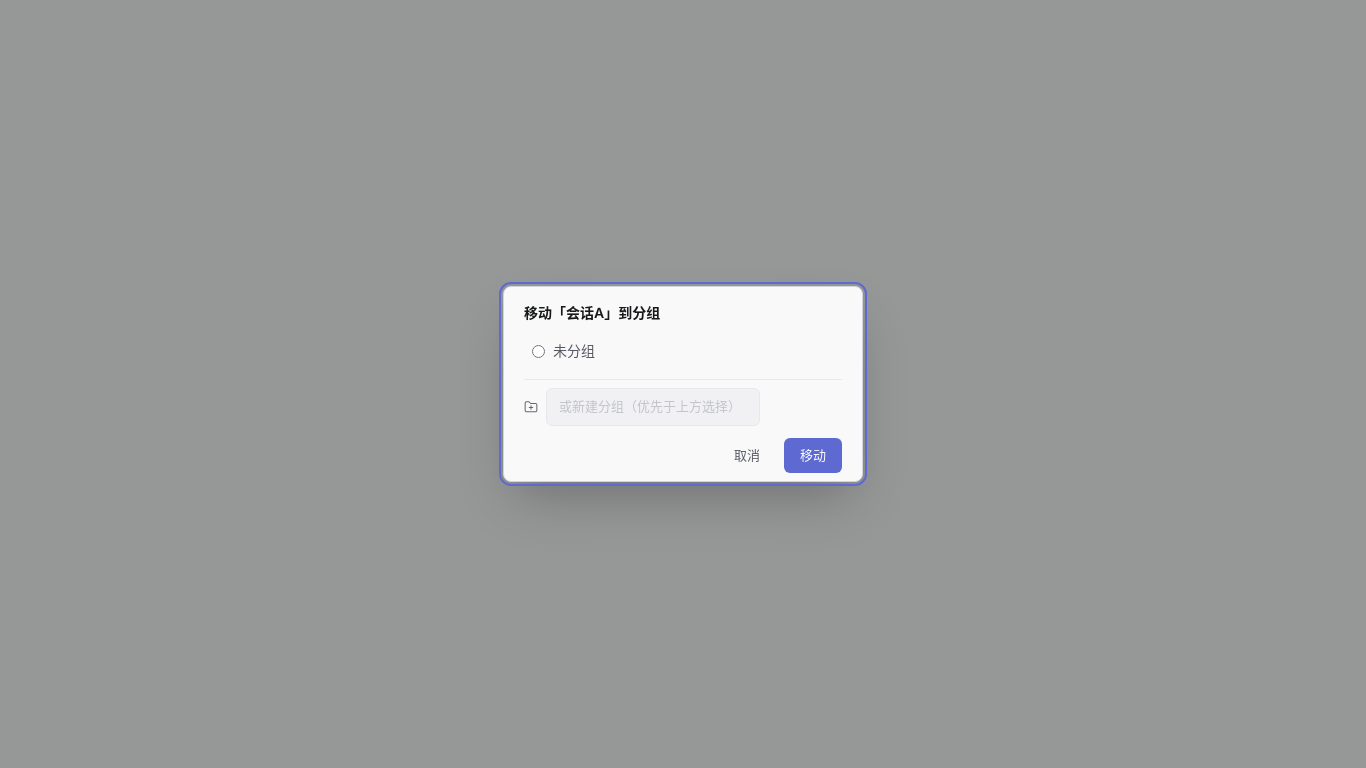
MoveToGroupDialog — 提交路径 › 输入新名后既有组 radio 取消选中（新名优先语义）
In the field: (653, 407) x1=546 y1=388 x2=760 y2=426, type "x"
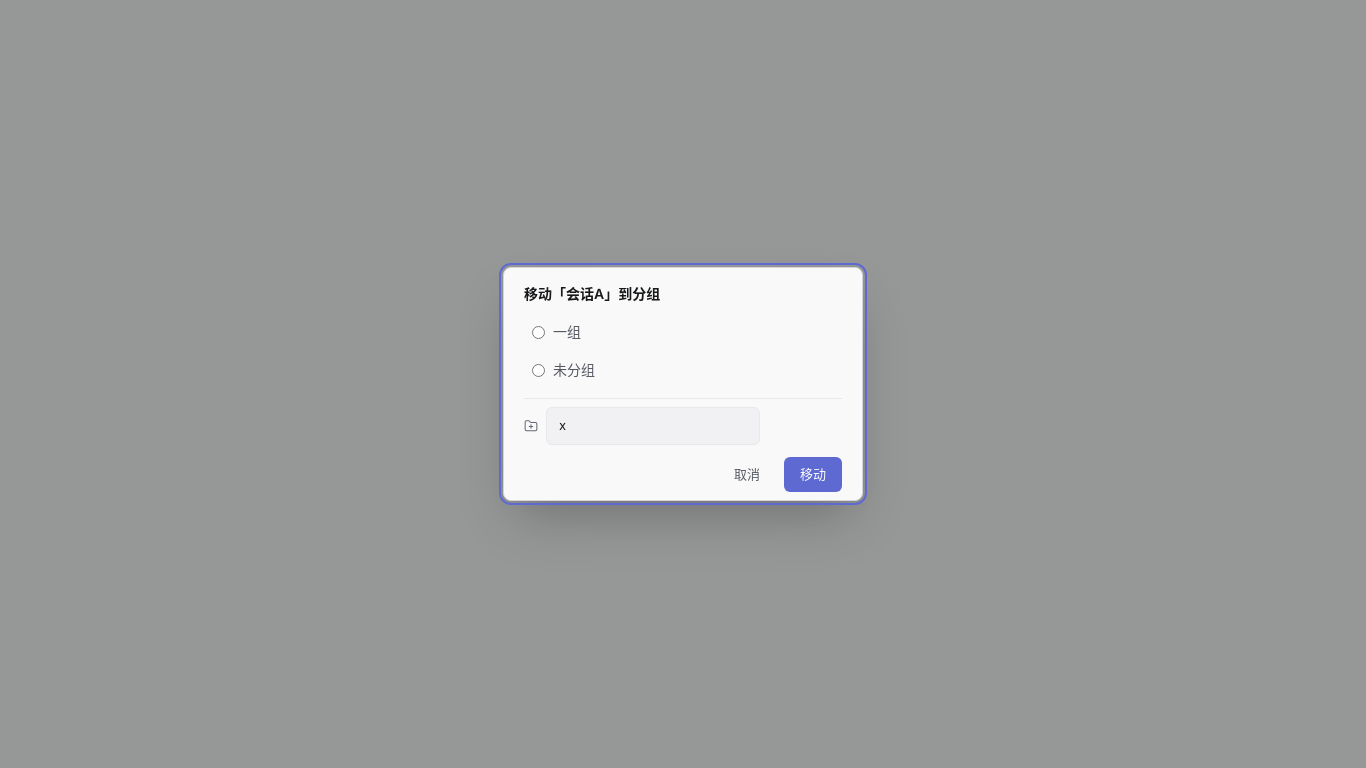
expect the radio button labelled "一组" is not checked: met, box x1=532 y1=326 x2=545 y2=338
